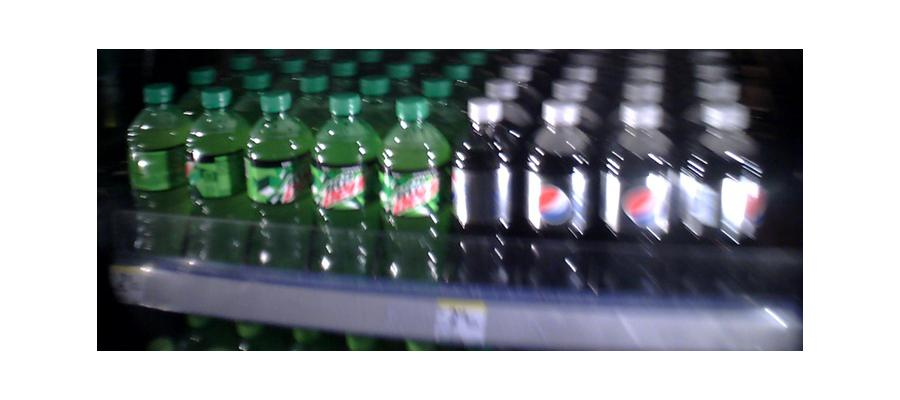bottle: (446, 101, 519, 295), (518, 110, 597, 289), (307, 95, 376, 277), (379, 96, 445, 284), (244, 95, 308, 270), (126, 97, 189, 266), (188, 94, 245, 267)
